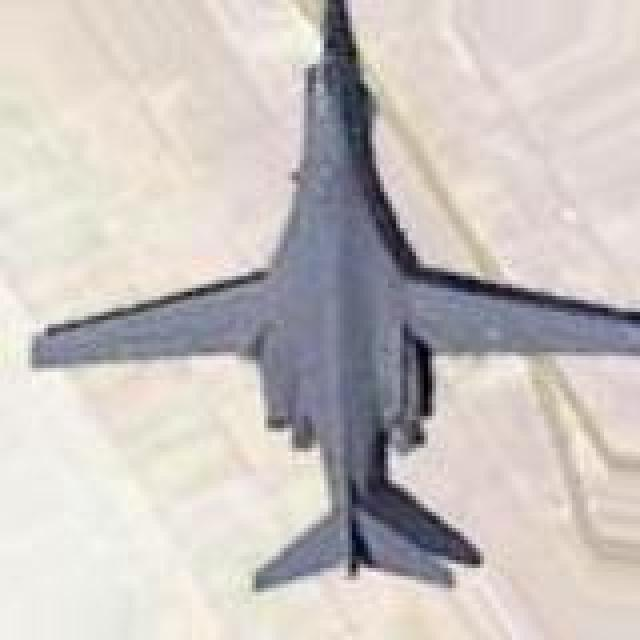B-1_TopDown: (24, 0, 636, 592)
